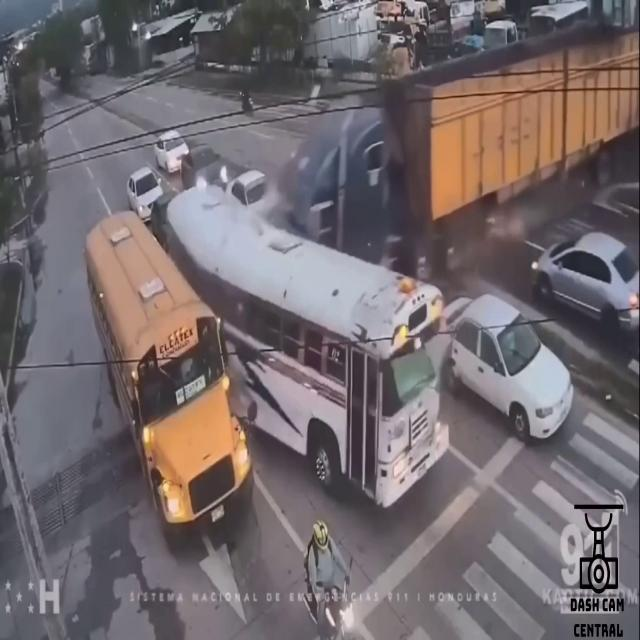accident: (235, 56, 450, 504)
